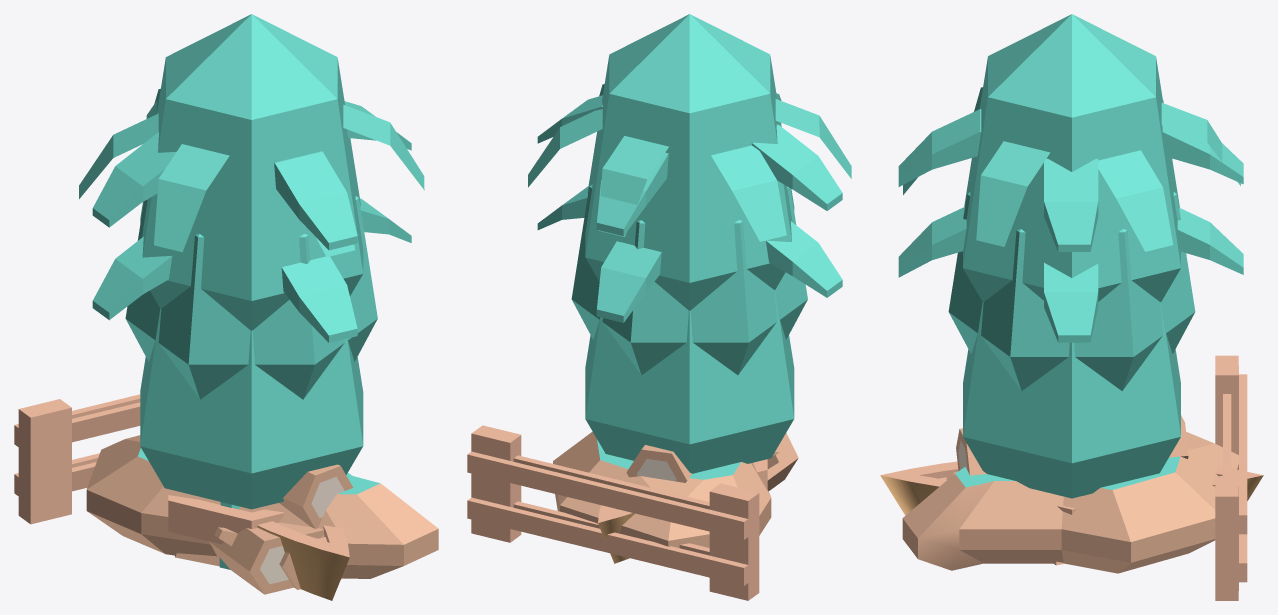
The model's file is nature.glb.
The picture shows the model from 3 angles, left to right: view 1: azimuth 30°, elevation 25°; view 2: azimuth 150°, elevation 25°; view 3: azimuth 270°, elevation 25°; orthographic projection. The views are drawn at different scales.
Visible parts, largest first — view 1: tree_default, tree_fat, tree_oak, rock_largeA, tree_palmTall, tree_palmShort, tree_palmBend, fence_simple, log_stack, canoe, fence_planks, pot_large (+1 smaller); view 2: tree_default, tree_fat, fence_planks, tree_oak, tree_palmBend, rock_largeA, tree_palmShort, fence_simple, tree_palmTall, log_stack, canoe; view 3: tree_default, rock_largeA, tree_fat, tree_oak, tree_palmBend, tree_palmTall, tree_palmShort, fence_planks, fence_simple, canoe, log_stack.
Boxes of the visible parts, <box> form: tree_default: <box>140,14,363,330</box>; tree_fat: <box>140,308,363,509</box>; tree_oak: <box>125,196,377,399</box>; rock_largeA: <box>86,435,438,578</box>; tree_palmTall: <box>92,99,411,250</box>; tree_palmShort: <box>92,198,411,342</box>; tree_palmBend: <box>79,88,424,256</box>; fence_simple: <box>18,402,140,524</box>; log_stack: <box>208,464,353,594</box>; canoe: <box>257,521,349,600</box>; fence_planks: <box>14,394,140,519</box>; pot_large: <box>168,495,284,544</box>; tree_default: <box>585,14,794,310</box>; tree_fat: <box>585,290,794,473</box>; fence_planks: <box>467,430,748,596</box>; tree_oak: <box>571,184,807,375</box>; tree_palmBend: <box>528,84,851,241</box>; rock_largeA: <box>553,432,771,547</box>; tree_palmShort: <box>537,186,842,322</box>; fence_simple: <box>471,425,759,600</box>; tree_palmTall: <box>537,93,842,235</box>; log_stack: <box>626,433,798,490</box>; canoe: <box>598,505,634,563</box>; tree_default: <box>963,14,1180,301</box>; rock_largeA: <box>902,431,1238,573</box>; tree_fat: <box>963,302,1180,498</box>; tree_oak: <box>948,192,1195,390</box>; tree_palmBend: <box>903,87,1240,251</box>; tree_palmTall: <box>898,109,1243,251</box>; tree_palmShort: <box>898,207,1243,342</box>; fence_planks: <box>1215,365,1247,590</box>; fence_simple: <box>1215,355,1238,600</box>; canoe: <box>880,461,1263,515</box>; log_stack: <box>956,415,1188,475</box>.
Size of the model in its own units: 1.03 by 1.71 by 1.15.
